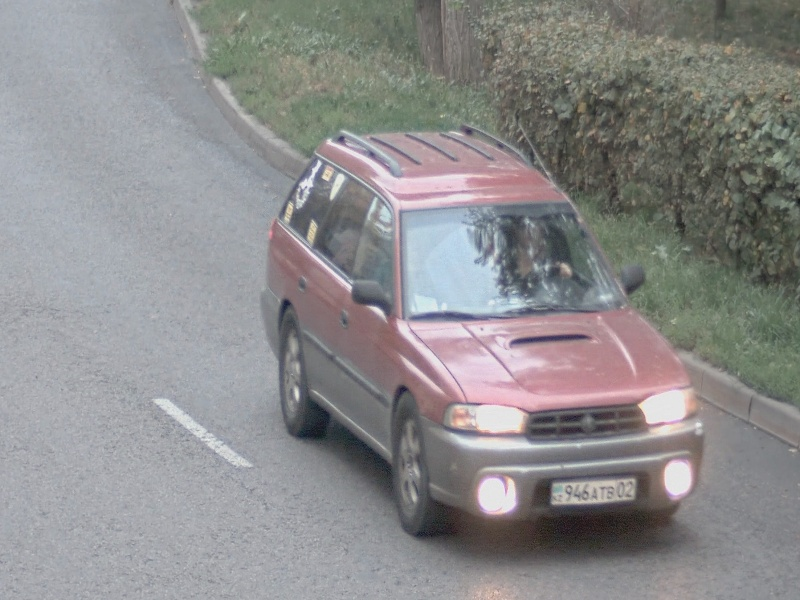plate: (549, 475, 638, 508)
